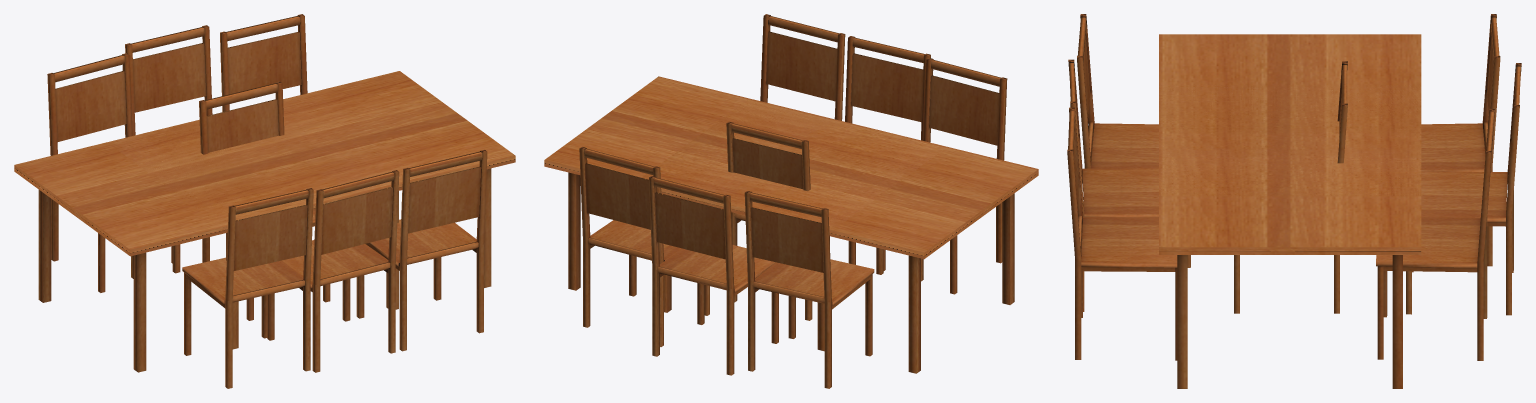
Rendered from tische_stuehle_bar.fbx.
The picture shows the model from 3 angles, left to right: view 1: azimuth 30°, elevation 25°; view 2: azimuth 150°, elevation 25°; view 3: azimuth 270°, elevation 25°; orthographic projection. The views are drawn at different scales.
Visible parts, largest first — view 1: bar_tisch_gross, bar_tisch_gross_stuehle, bar_tisch_klein_stuehle, bar_tisch_klein, bar_stuhl; view 2: bar_tisch_gross_stuehle, bar_tisch_gross, bar_tisch_klein, bar_tisch_klein_stuehle, bar_stuhl; view 3: bar_tisch_gross, bar_tisch_klein, bar_tisch_gross_stuehle, bar_tisch_klein_stuehle, bar_stuhl.
Part boxes in pixels (x1,y1,x2,y2): bar_tisch_gross: (14, 71, 515, 372); bar_tisch_gross_stuehle: (47, 14, 487, 388); bar_tisch_klein_stuehle: (125, 25, 399, 372); bar_tisch_klein: (107, 99, 423, 349); bar_stuhl: (199, 81, 330, 320); bar_tisch_gross_stuehle: (579, 14, 1007, 388); bar_tisch_gross: (544, 76, 1038, 373); bar_tisch_klein: (641, 99, 947, 351); bar_tisch_klein_stuehle: (649, 36, 930, 375); bar_stuhl: (726, 121, 855, 320); bar_tisch_gross: (1159, 34, 1421, 388); bar_tisch_klein: (1159, 85, 1421, 196); bar_tisch_gross_stuehle: (1067, 14, 1500, 360); bar_tisch_klein_stuehle: (1068, 59, 1521, 315); bar_stuhl: (1234, 61, 1347, 313).
Bounding box in the file's own units: 215 × 97.66 × 194.
